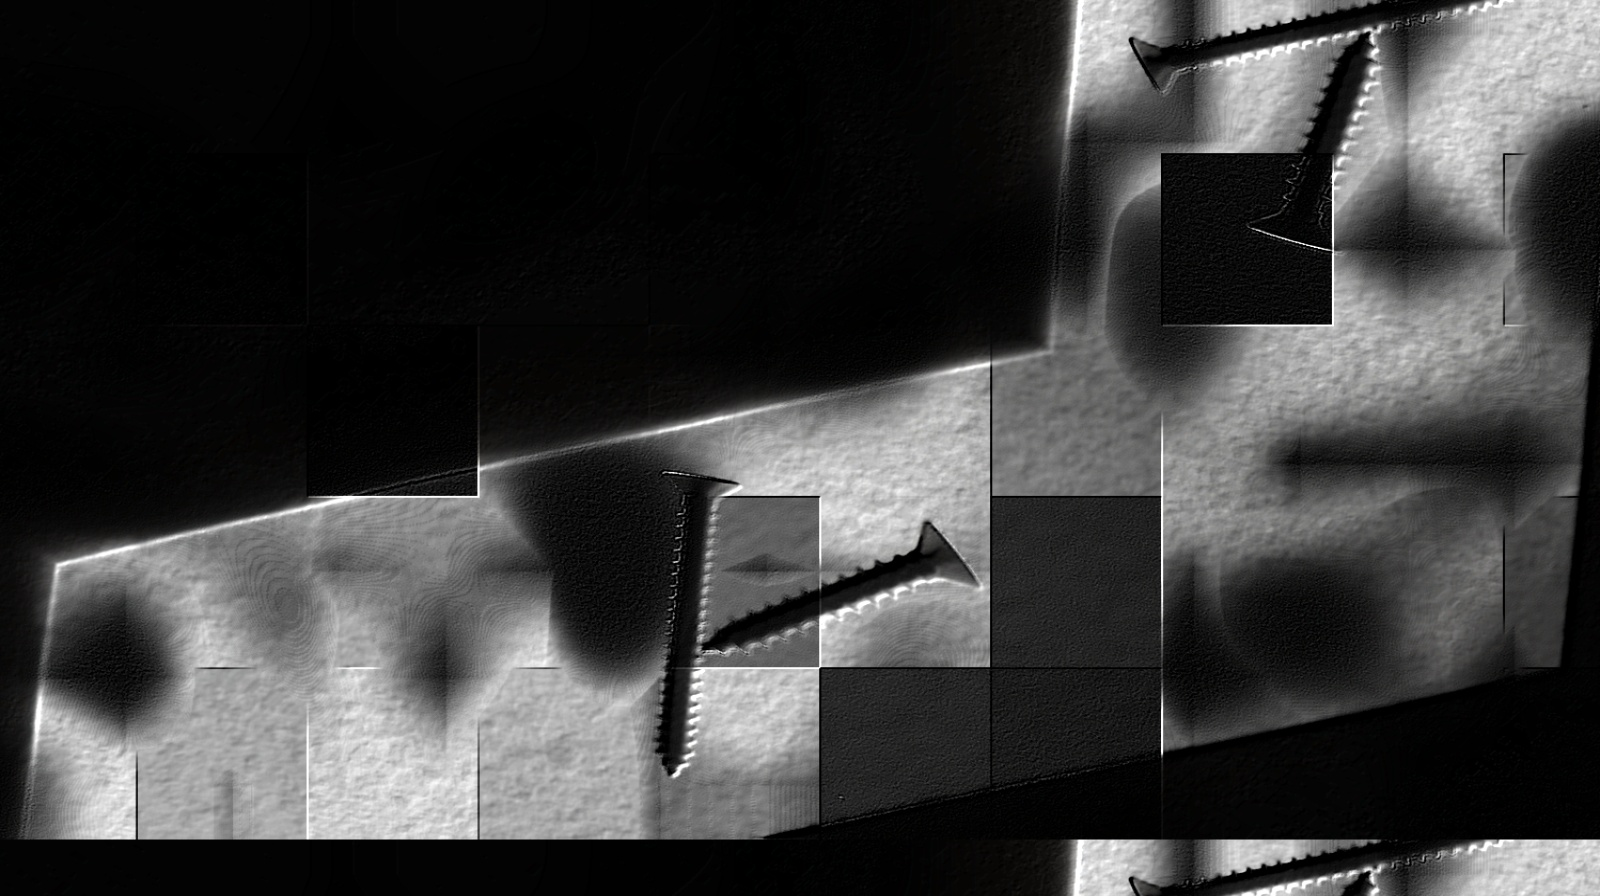S001: (695, 476, 1021, 734)
S002: (466, 451, 901, 790)
